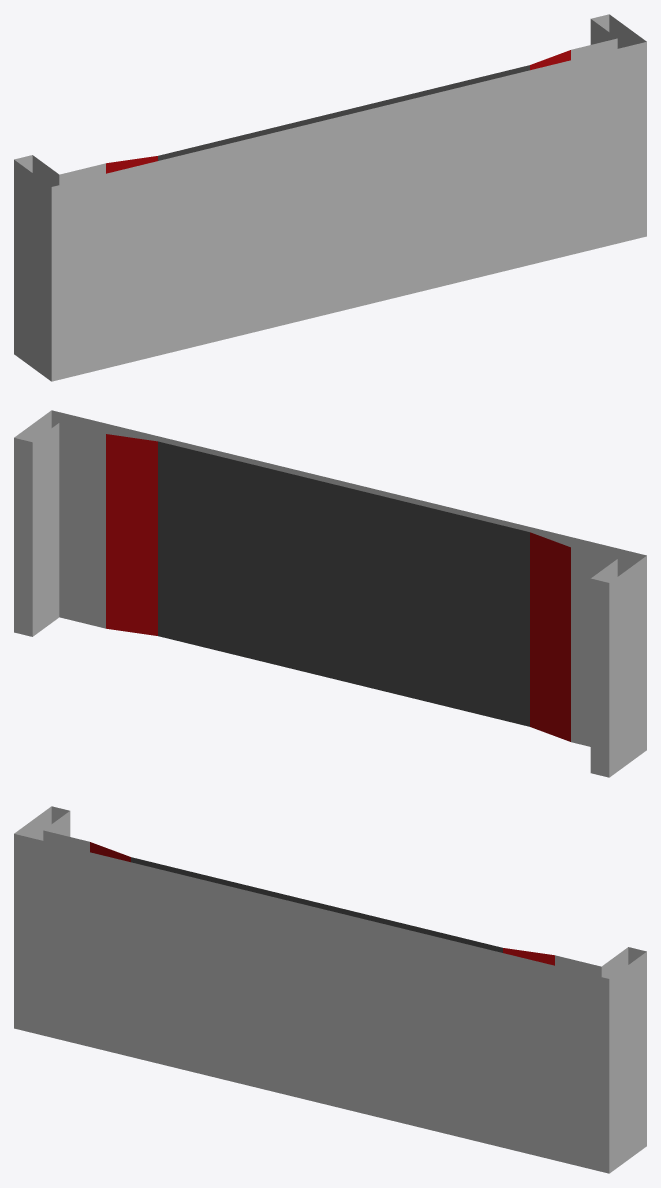
File: Straight_Flat.fbx
3 renders of one model, top to bottom at view 1: azimuth 30°, elevation 25°; view 2: azimuth 150°, elevation 25°; view 3: azimuth 330°, elevation 25°, orthographic.
Parts seen in each view (by area): view 1: Straight_Flat; view 2: Straight_Flat; view 3: Straight_Flat.
Boxes of the visible parts, x1,y1,x2,y2 form: Straight_Flat: [14, 14, 646, 381]; Straight_Flat: [14, 410, 646, 777]; Straight_Flat: [14, 806, 646, 1173].
Bounding box in the file's own units: 1280 × 400 × 140.
